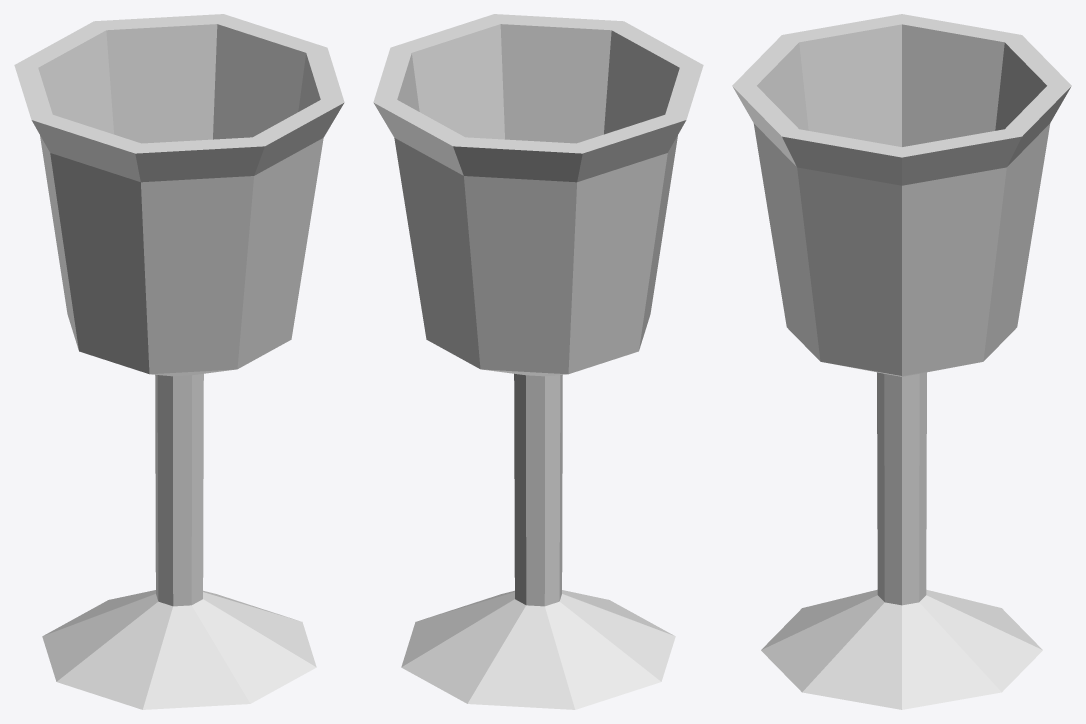
The model's file is glass.fbx.
3 renders of one model, left to right at view 1: azimuth 30°, elevation 25°; view 2: azimuth 150°, elevation 25°; view 3: azimuth 270°, elevation 25°, orthographic.
Visible parts, largest first — view 1: glass; view 2: glass; view 3: glass.
Part boxes in pixels (x1=…): glass: x1=14, y1=14, x2=344, y2=709; glass: x1=373, y1=14, x2=703, y2=709; glass: x1=732, y1=14, x2=1071, y2=709.
Size of the model in its own units: 60 by 110 by 60.
Materials: 1 (1 with a texture image).
